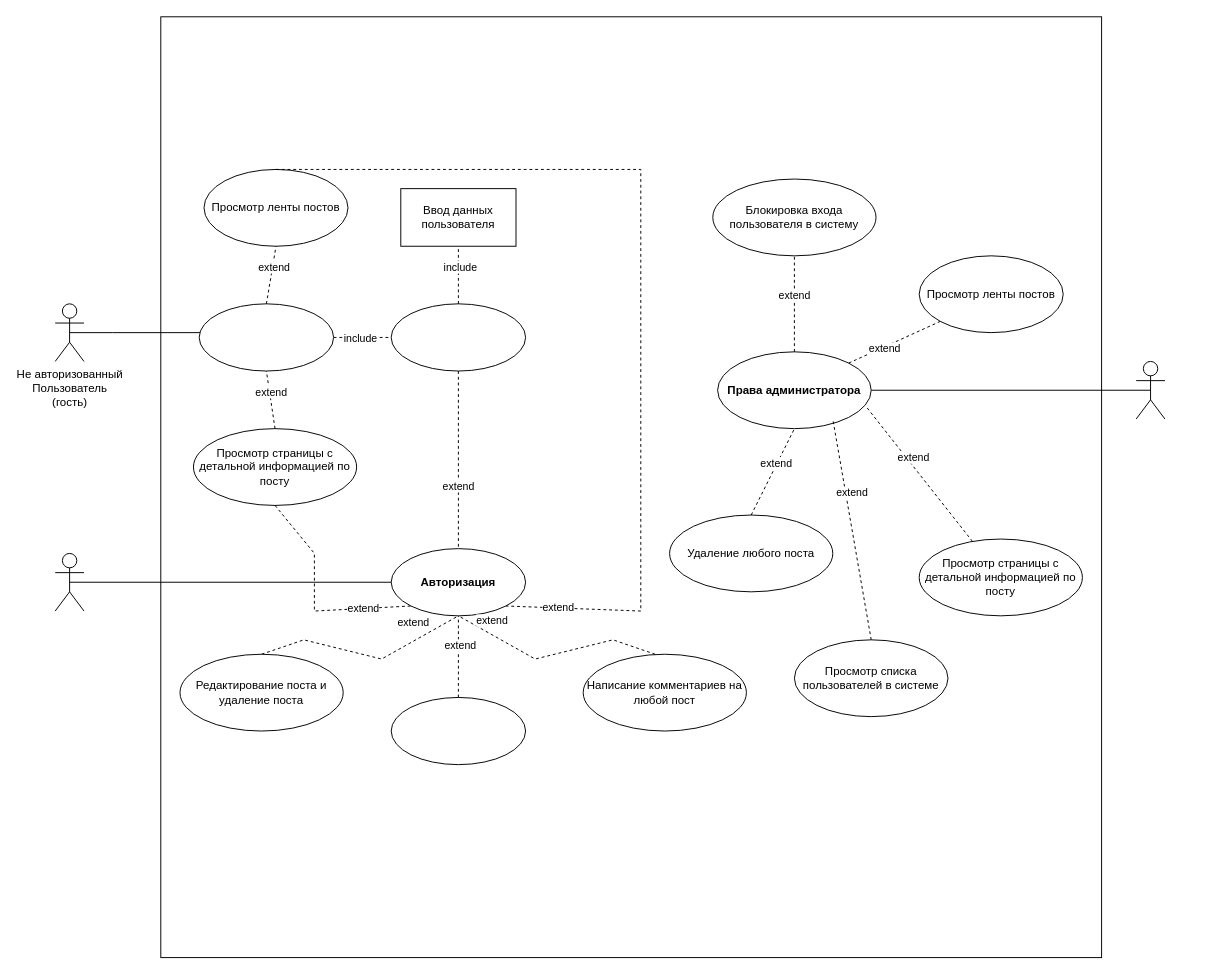
This 1210x974 diagram has some shape labels left out. The shapes that lost their labels are listed below. From the top down, each one's box as (x1, y1, x2, y2) in pixels, then its label:
(198, 303, 334, 371): Главная страница
(390, 303, 526, 371): Регистрация
(1135, 360, 1165, 419): Администратор системы
(54, 552, 84, 611): Авторизованный Пользователь (автор)
(390, 696, 526, 765): Написание поста
